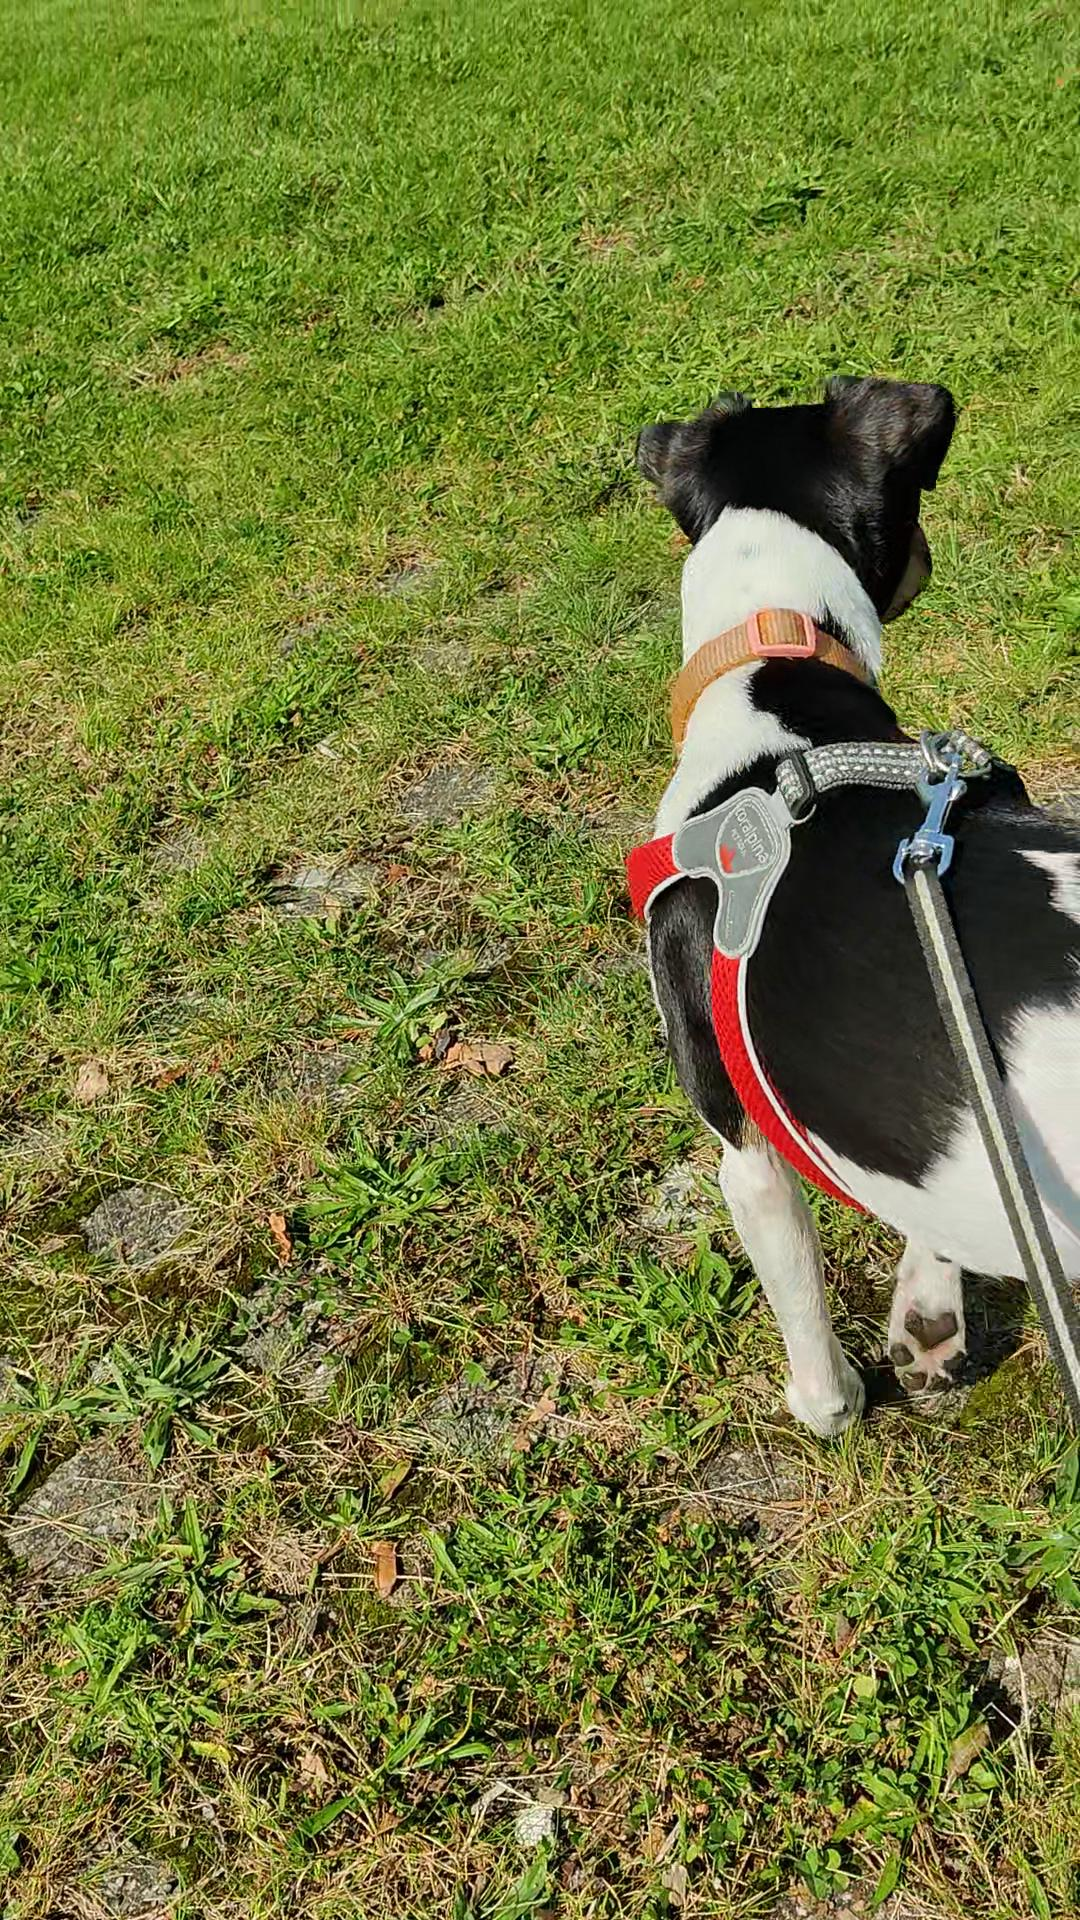Dog: (595, 334, 1079, 1477)
